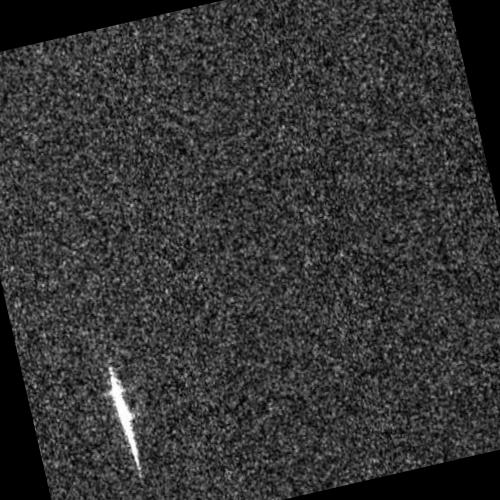ship: (109, 374, 141, 474)
